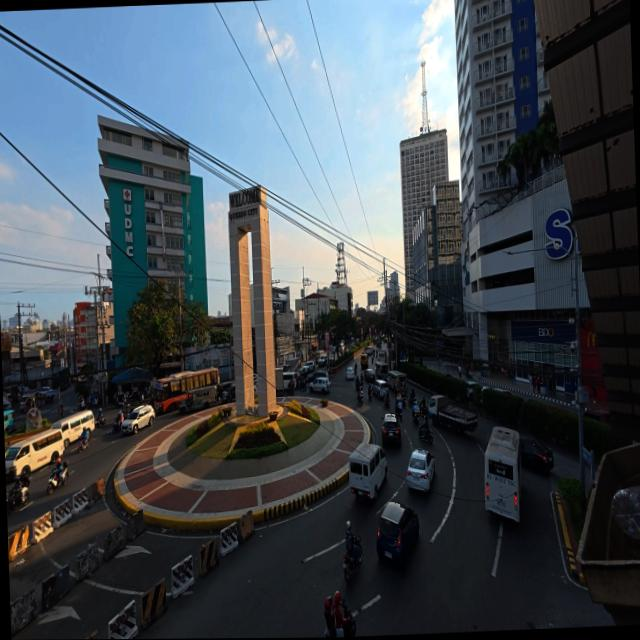car: (372, 497, 418, 563), (404, 445, 437, 493), (119, 402, 156, 433), (380, 413, 402, 448), (306, 374, 331, 393)
